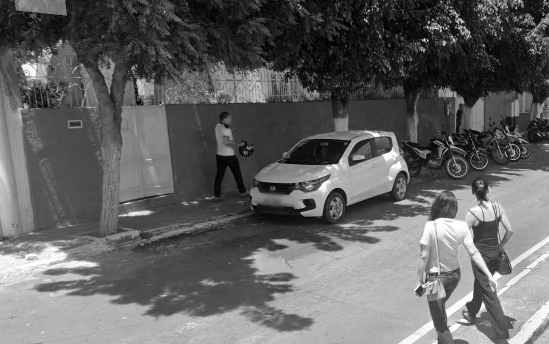car: (243, 124, 417, 230)
